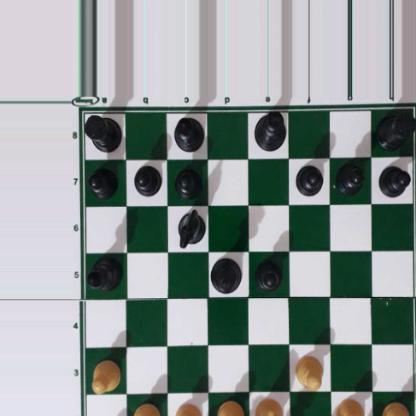black-bishop: (85, 255, 123, 291), (171, 117, 206, 152)
black-king: (252, 109, 287, 149), (209, 256, 241, 293)
black-knight: (176, 208, 204, 246)
black-pawn: (378, 163, 409, 197), (253, 256, 283, 290), (295, 162, 323, 195), (174, 163, 201, 197), (88, 166, 117, 197), (133, 163, 160, 196), (337, 162, 364, 194)
black-rook: (81, 110, 122, 152), (377, 105, 413, 149)
white-knight: (255, 396, 285, 416)
white-pawn: (294, 353, 323, 390), (90, 358, 120, 393), (335, 396, 367, 416), (381, 401, 413, 416), (215, 399, 243, 416), (132, 401, 161, 416), (173, 401, 201, 416)
